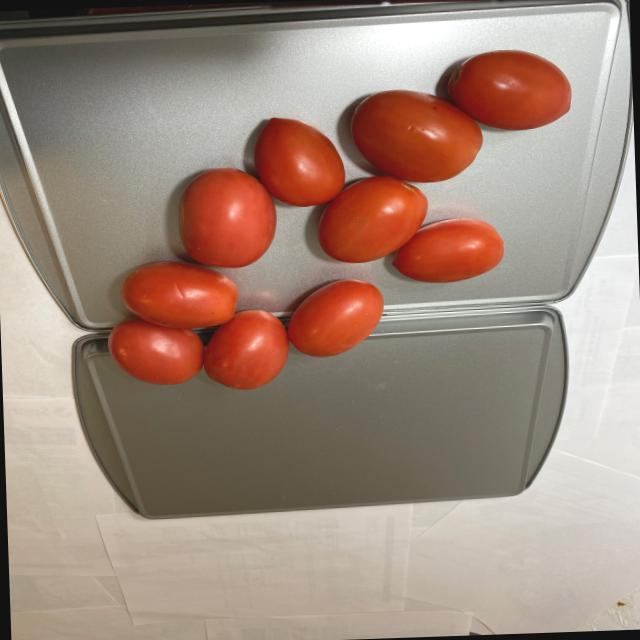tomato: (93, 47, 588, 399)
